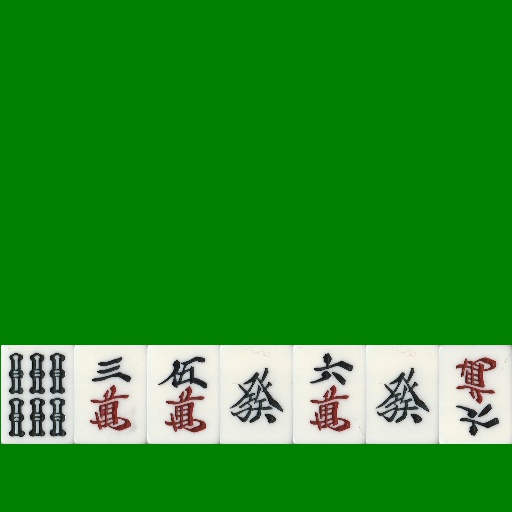3m: (74, 345, 147, 444)
5m: (147, 345, 220, 444)
6m: (293, 345, 366, 444), (439, 345, 512, 444)
6s: (1, 345, 74, 444)
hatsu: (220, 345, 293, 444), (366, 345, 439, 444)
